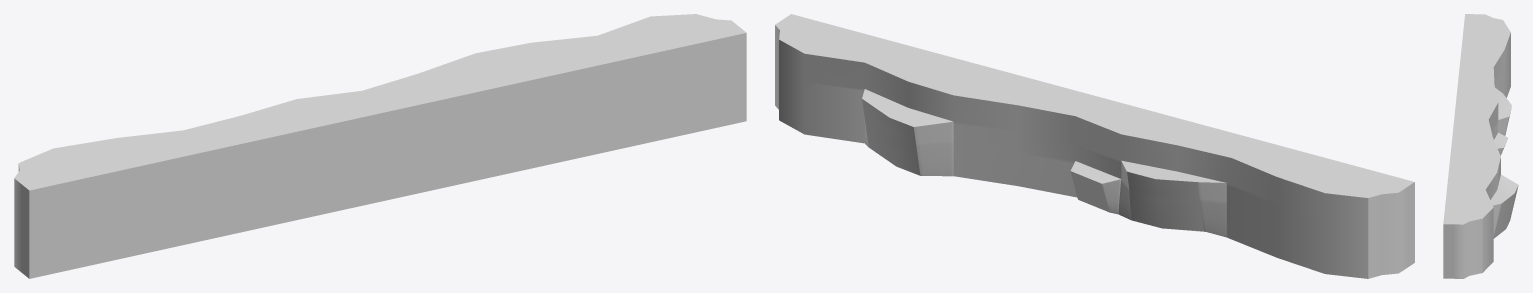
Rendered from Wall.obj.
3 views of the same model, side by side, from view 1: azimuth 30°, elevation 25°; view 2: azimuth 150°, elevation 25°; view 3: azimuth 270°, elevation 25° (orthographic). The views are drawn at different scales.
Visible parts, largest first — view 1: pCube2; view 2: pCube2; view 3: pCube2.
Boxes of the visible parts, box(x1,y1,x2,y2) form: pCube2: box(14, 14, 746, 278); pCube2: box(775, 14, 1414, 278); pCube2: box(1443, 14, 1518, 278).
Size of the model in its own units: 21.42 by 2.62 by 3.24.
1 material, 1 textured.
